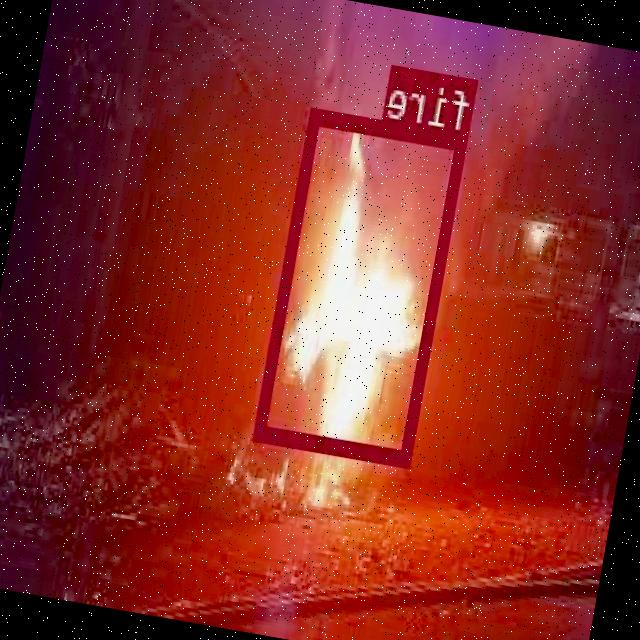fire: (256, 104, 470, 464)
